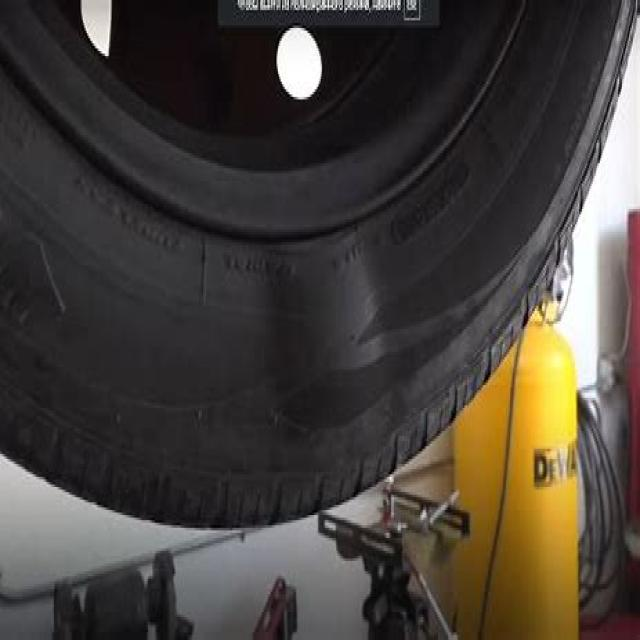Bulge: (346, 214, 411, 428)
